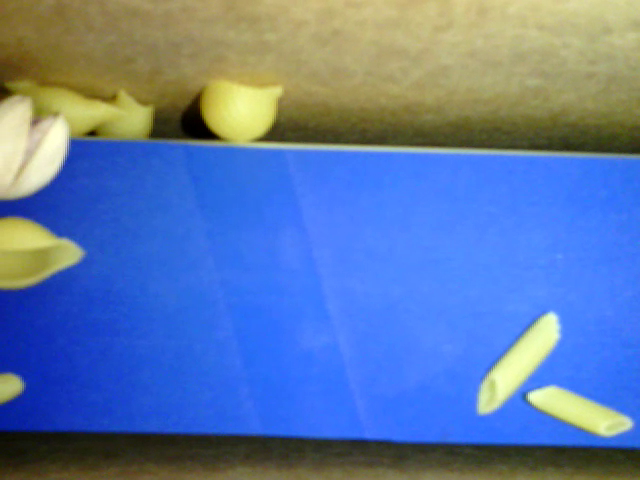penne: (473, 313, 558, 411), (524, 383, 633, 437)
shell: (1, 80, 129, 137), (1, 213, 88, 296), (199, 72, 283, 143), (91, 85, 155, 139)
